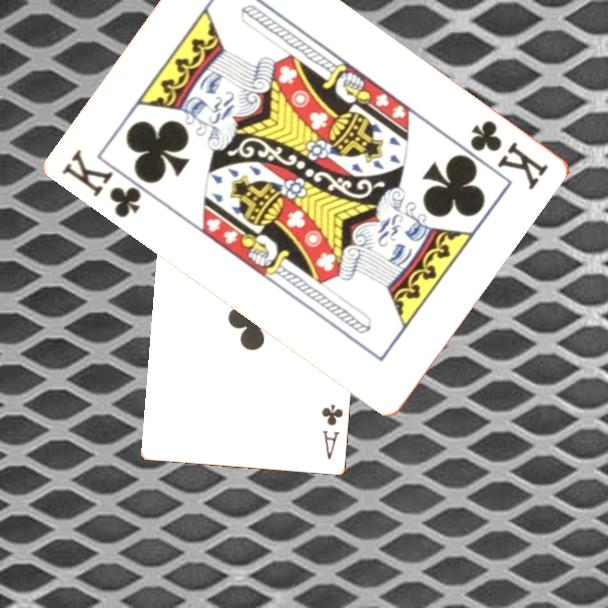c01: (318, 401, 346, 462)
c13: (58, 145, 145, 221), (467, 116, 552, 193)
